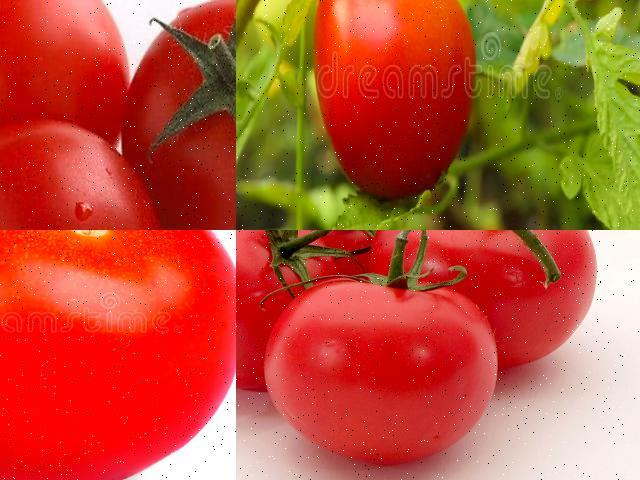tomato: (0, 230, 235, 479), (264, 277, 509, 463), (308, 0, 480, 203), (392, 230, 610, 372), (0, 0, 132, 188), (129, 0, 235, 229), (236, 230, 353, 416), (0, 123, 169, 229), (245, 230, 413, 295)
